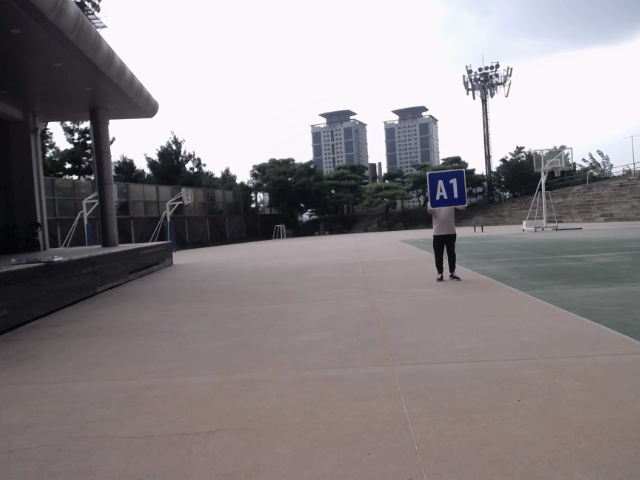delivery_a1: (427, 169, 467, 209)
